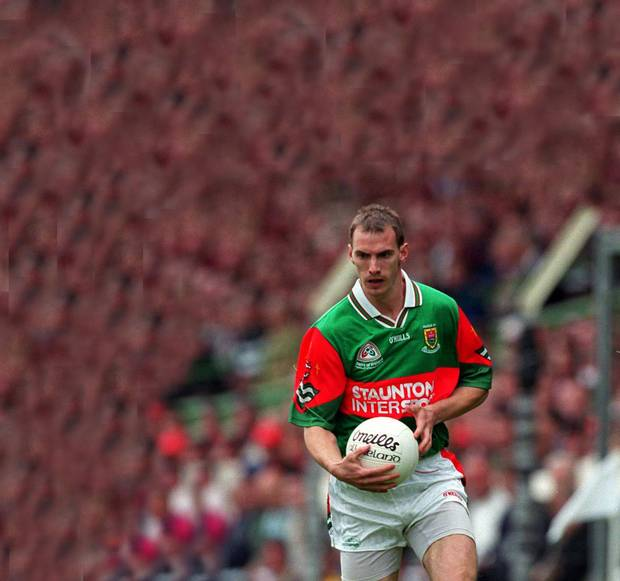ball: (348, 419, 416, 489)
player: (309, 196, 487, 580)
